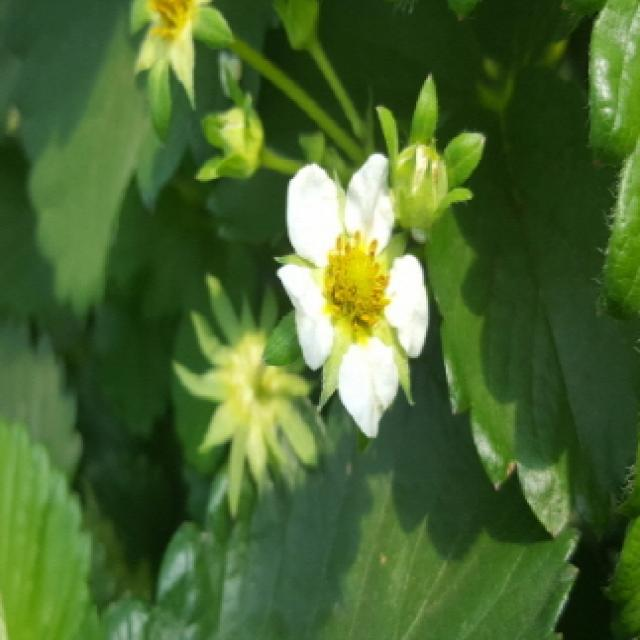Blossom Blight: (318, 224, 394, 348)
